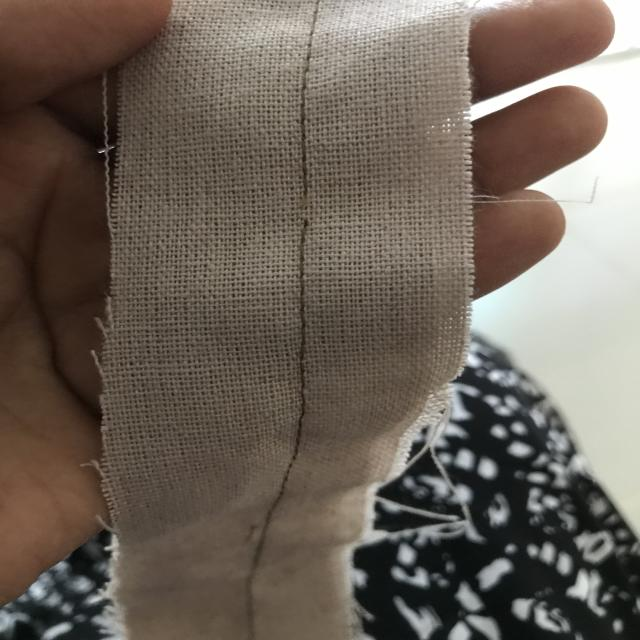broken: (281, 178, 328, 241)
